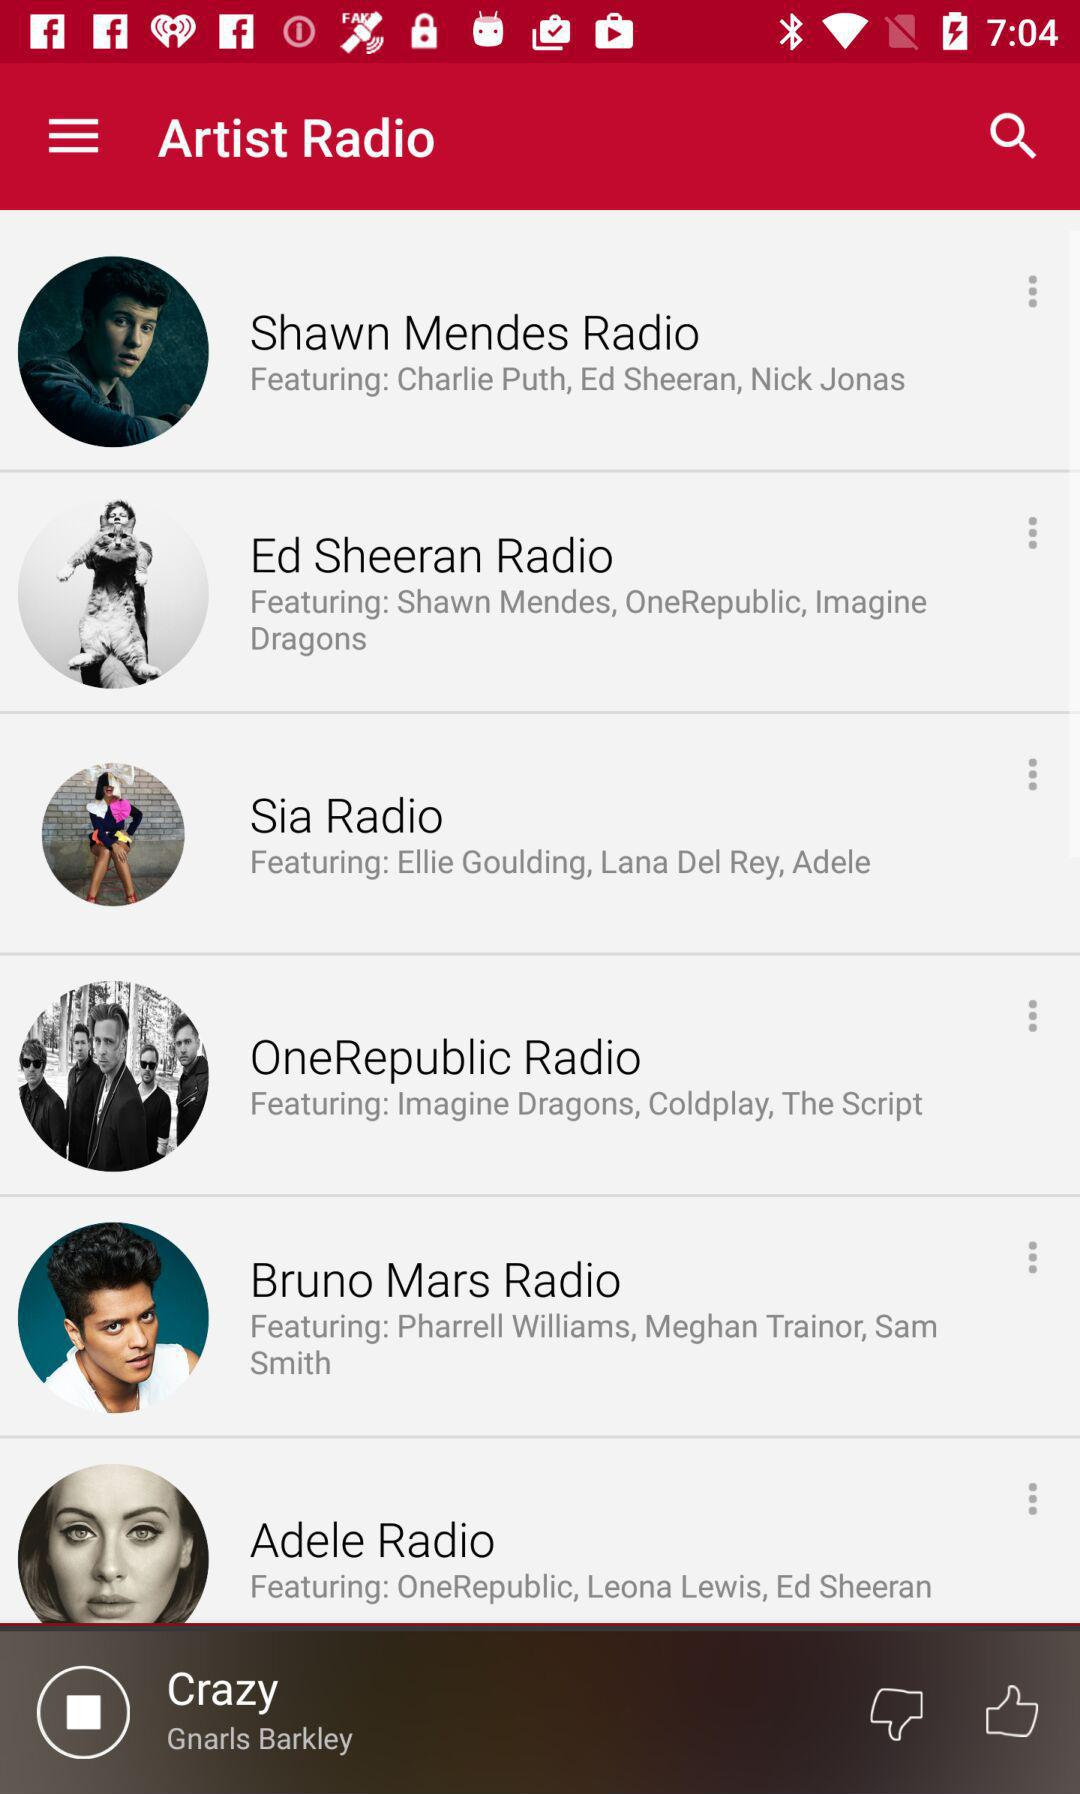Icon: (989, 113, 1036, 161), (47, 119, 100, 156), (1027, 1481, 1038, 1516), (1027, 1240, 1038, 1275), (1027, 759, 1038, 793), (1027, 516, 1038, 551), (1027, 276, 1038, 310), (1027, 1000, 1038, 1033)
Image: (18, 1222, 210, 1415), (18, 982, 211, 1173), (18, 498, 210, 689), (18, 258, 210, 448), (19, 1463, 211, 1624), (41, 762, 186, 909), (37, 1665, 132, 1759), (869, 1686, 924, 1741), (985, 1684, 1039, 1739)
Text: (251, 589, 928, 657), (251, 1313, 937, 1376), (252, 1572, 931, 1606), (252, 1090, 922, 1123), (252, 366, 906, 399), (252, 848, 871, 882), (252, 1038, 641, 1085), (251, 314, 700, 352), (252, 536, 612, 575), (252, 1263, 621, 1299), (158, 117, 436, 161), (250, 1520, 495, 1559), (251, 797, 443, 835), (168, 1726, 354, 1757), (168, 1671, 281, 1716)
Toolbar: (1, 65, 1080, 211)
UpperTaskBar: (1, 1, 1080, 64)
